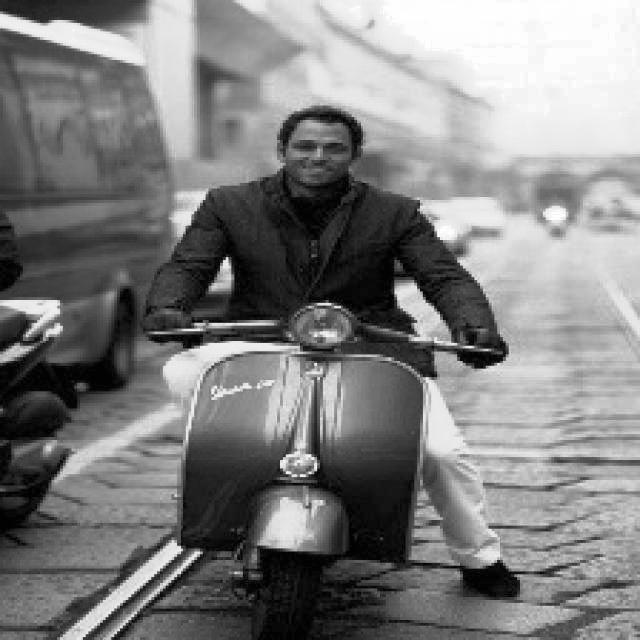Bike: (177, 310, 431, 620)
